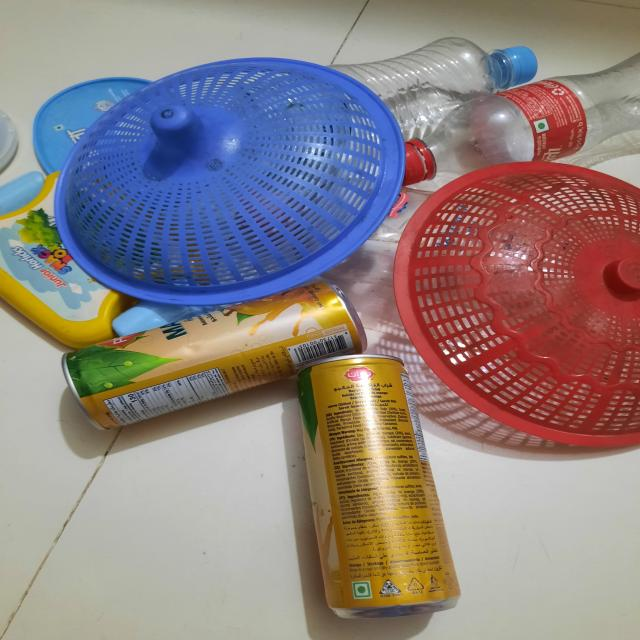Plastics: (0, 29, 418, 302), (409, 13, 640, 437)
can: (45, 279, 478, 626)
